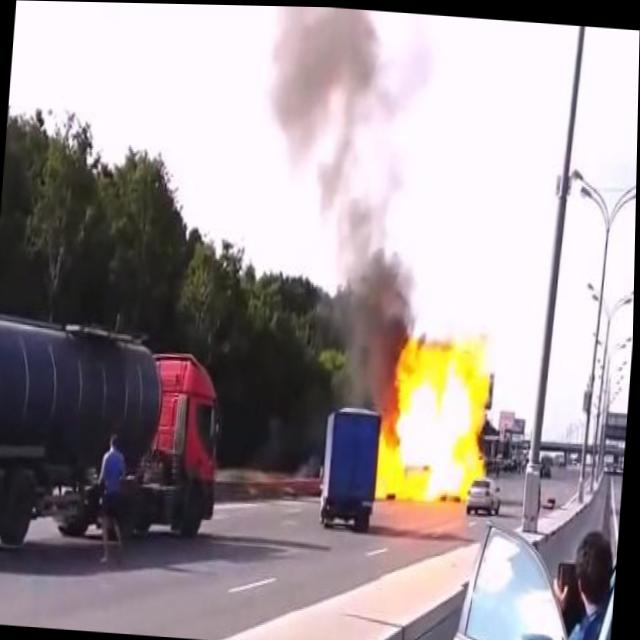fire: (377, 321, 496, 505)
